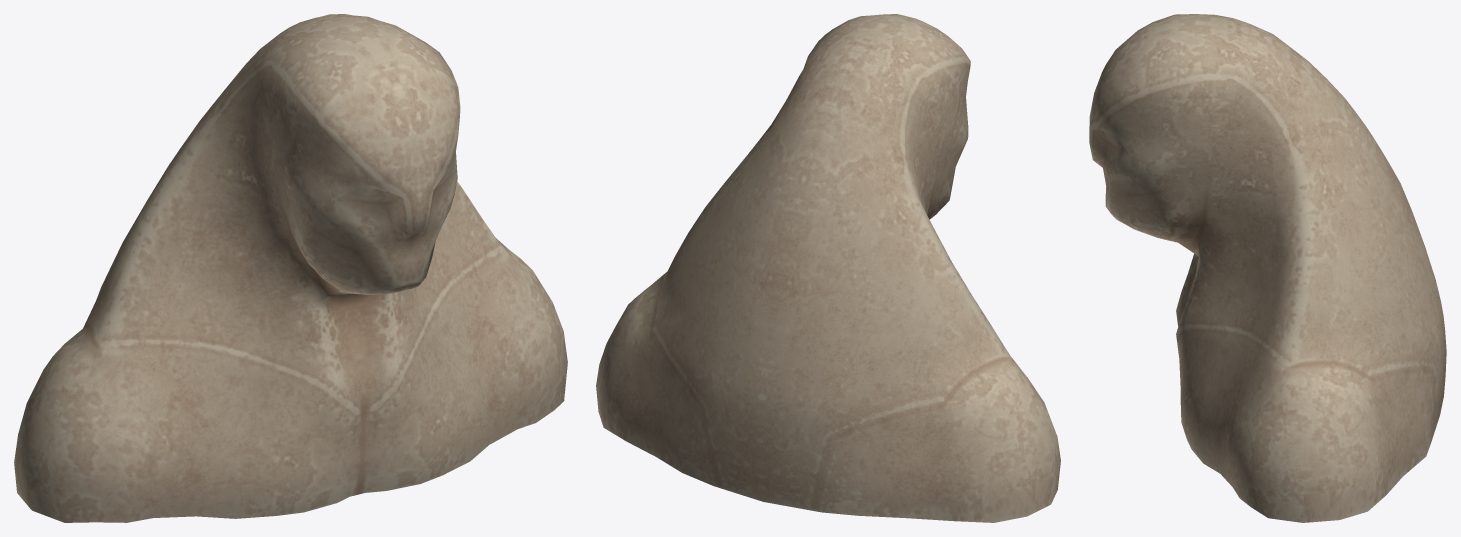
Rendered from golem.fbx.
3 views of the same model, side by side, from view 1: azimuth 30°, elevation 25°; view 2: azimuth 150°, elevation 25°; view 3: azimuth 270°, elevation 25° (orthographic). The views are drawn at different scales.
Parts seen in each view (by area): view 1: LP; view 2: LP; view 3: LP.
Part boxes in pixels (box(x1,y1,x2,y2)): LP: box(14, 14, 567, 522); LP: box(596, 14, 1060, 522); LP: box(1089, 14, 1446, 522).
Size of the model in its own units: 130 by 109 by 89.92.
1 material, 1 textured.
